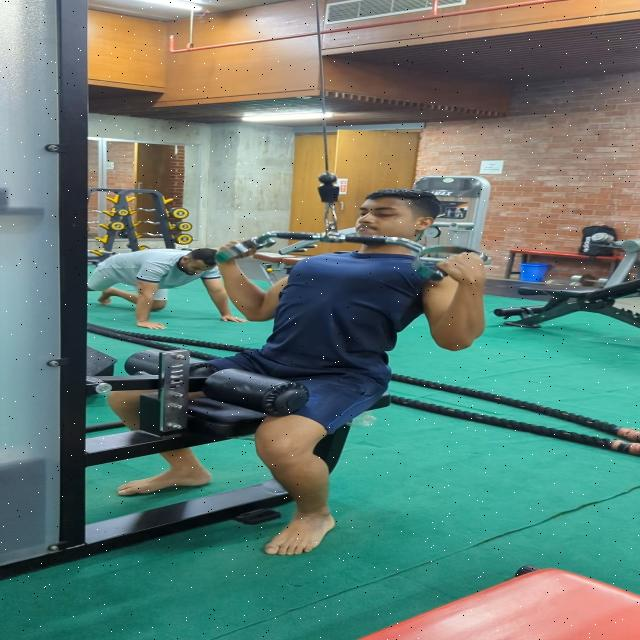Normal_LatPulldown: (98, 188, 498, 565)
